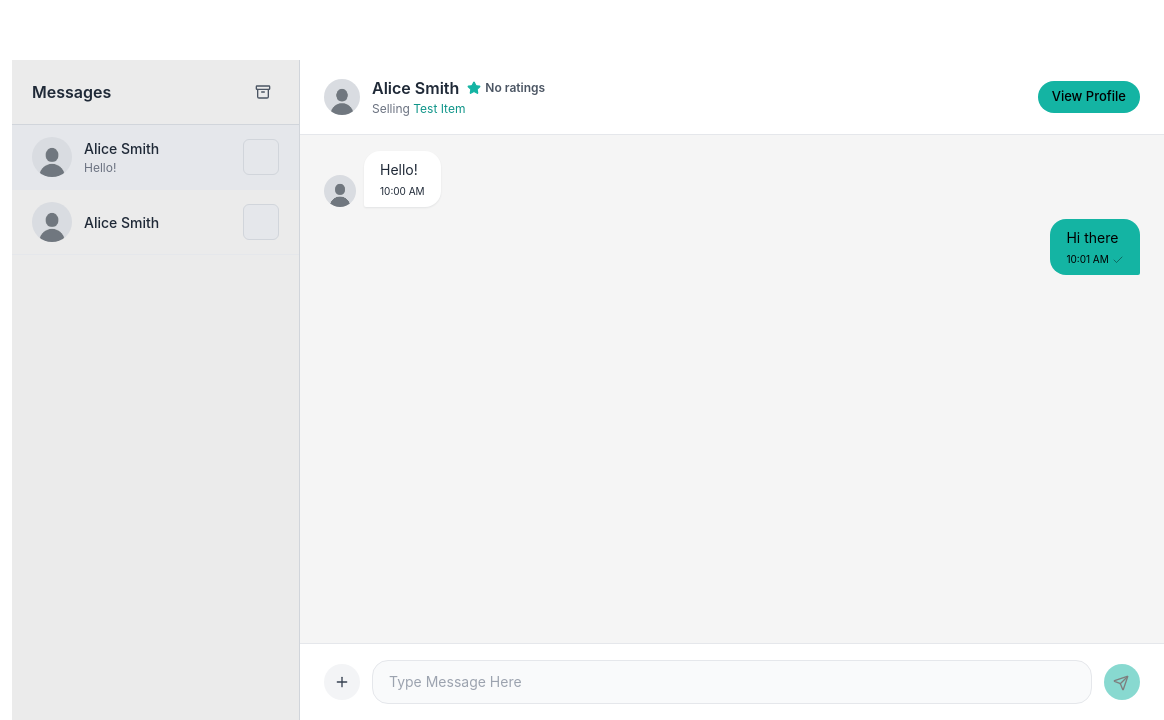
Test: ChatLayout › send button is enabled once input has text and connection is established
The image size is (1164, 720).
In the text box with placeholder "Type Message Here": (732, 682) [372,660,1092,704], type "Hello"
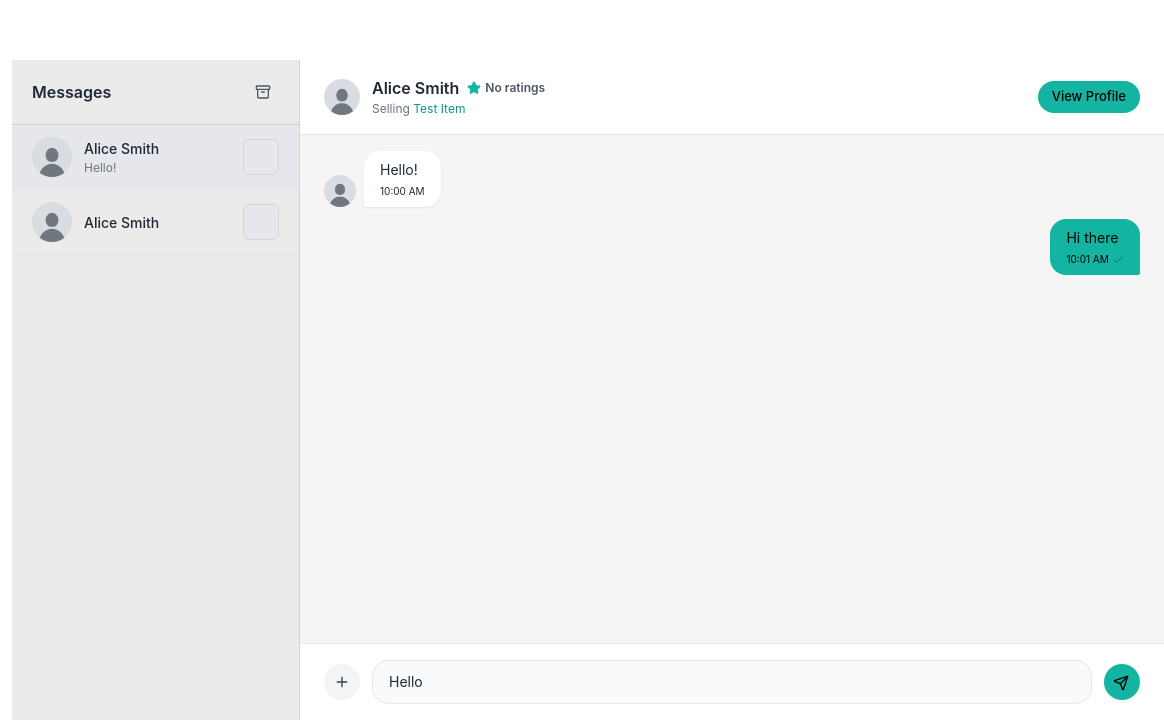
Check: the button titled "Send" is enabled, box [1104,664,1140,700]
